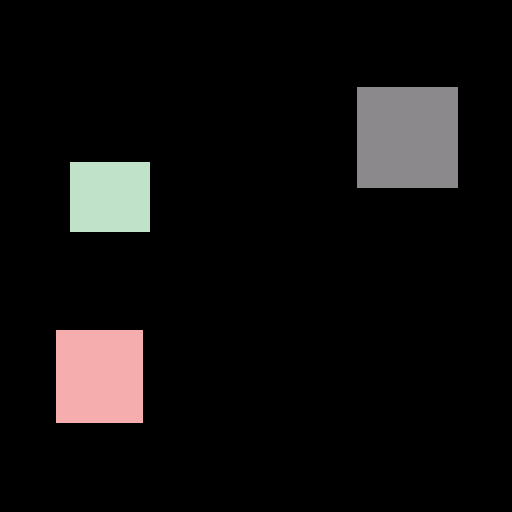rectangle: (70, 162, 149, 231)
square: (357, 87, 457, 187), (56, 330, 142, 422)
